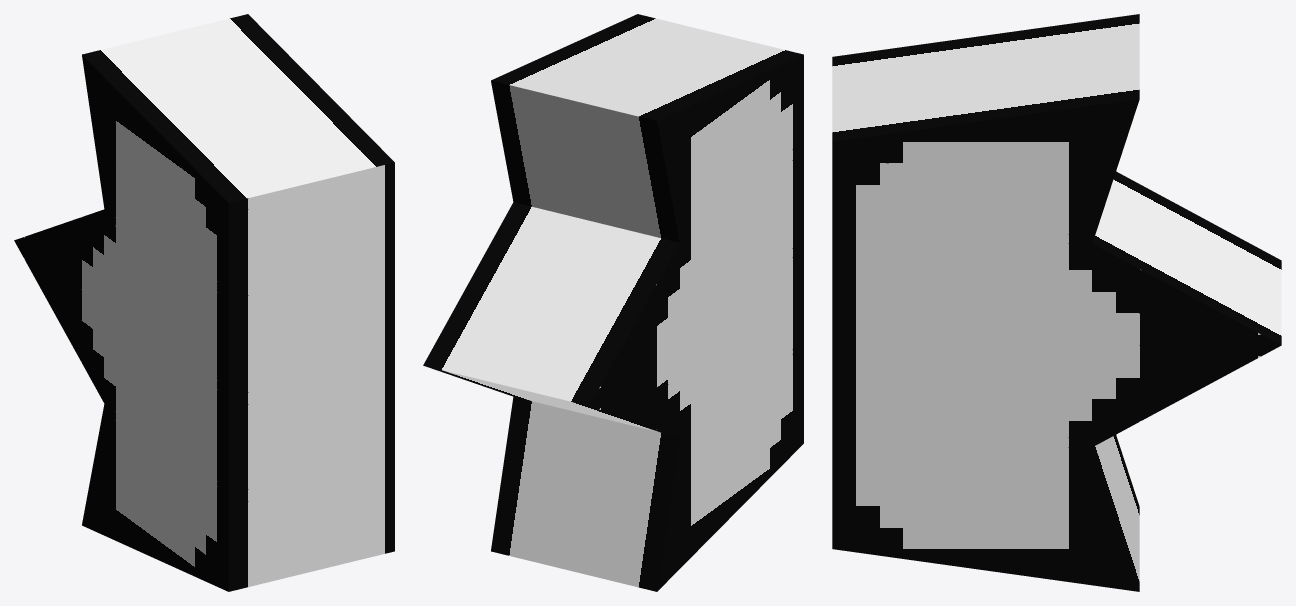
Rendered from crowned.gltf.
The picture shows the model from 3 angles, left to right: view 1: azimuth 30°, elevation 25°; view 2: azimuth 150°, elevation 25°; view 3: azimuth 270°, elevation 25°; orthographic projection. The views are drawn at different scales.
Visible parts, largest first — view 1: cuboid; view 2: cuboid; view 3: cuboid.
Part boxes in pixels (x1,y1,x2,y2): cuboid: [14, 14, 394, 591]; cuboid: [423, 14, 803, 591]; cuboid: [832, 14, 1281, 591].
Size of the model in its own units: 0.5313 by 1.44 by 1.19.
Materials: 1 (1 with a texture image).
